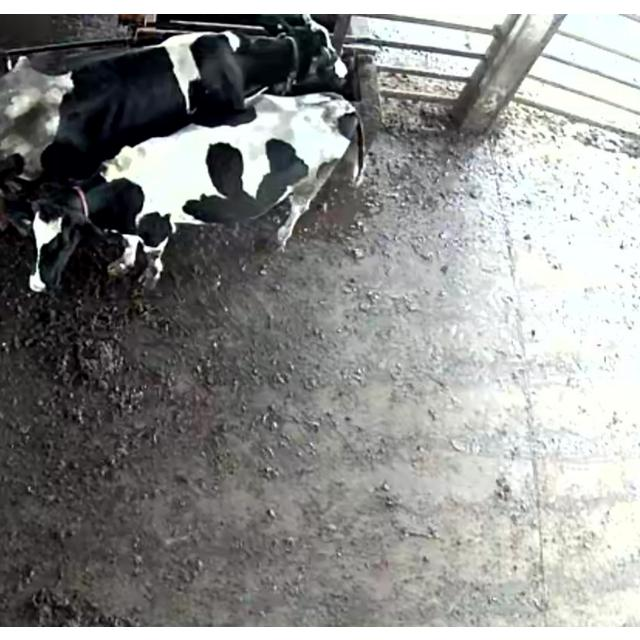drink: (215, 19, 382, 100)
